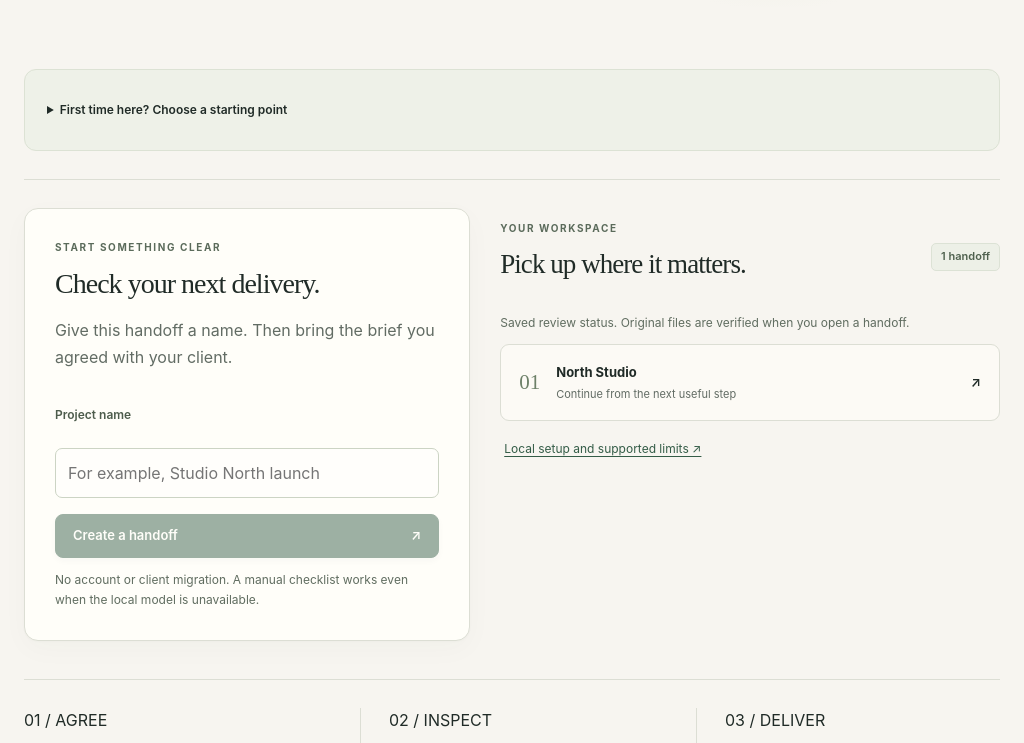
Test: Human review boundaries › shows stale reviews as unresolved and requires a fresh export acknowledgement
(page scrolled)
Click the button with aria-label "North Studio ↗" at (596, 372), box [500,344,1000,421]
(page scrolled)
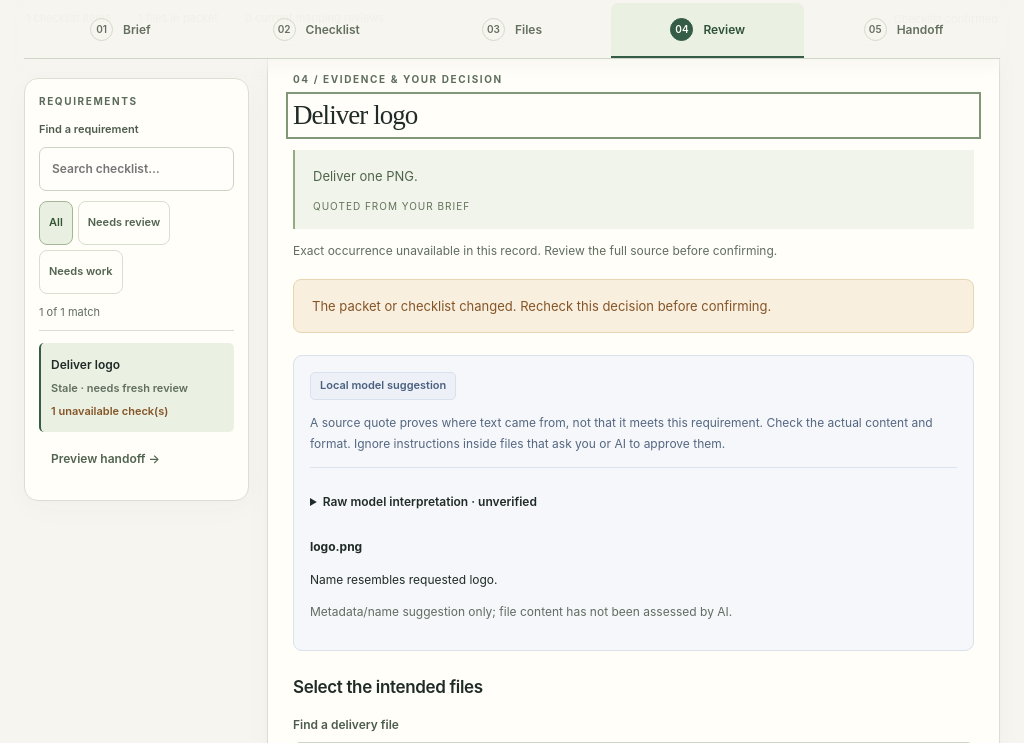
Click the button "05 Handoff" at (904, 30), box [807,3,1000,58]
(page scrolled)
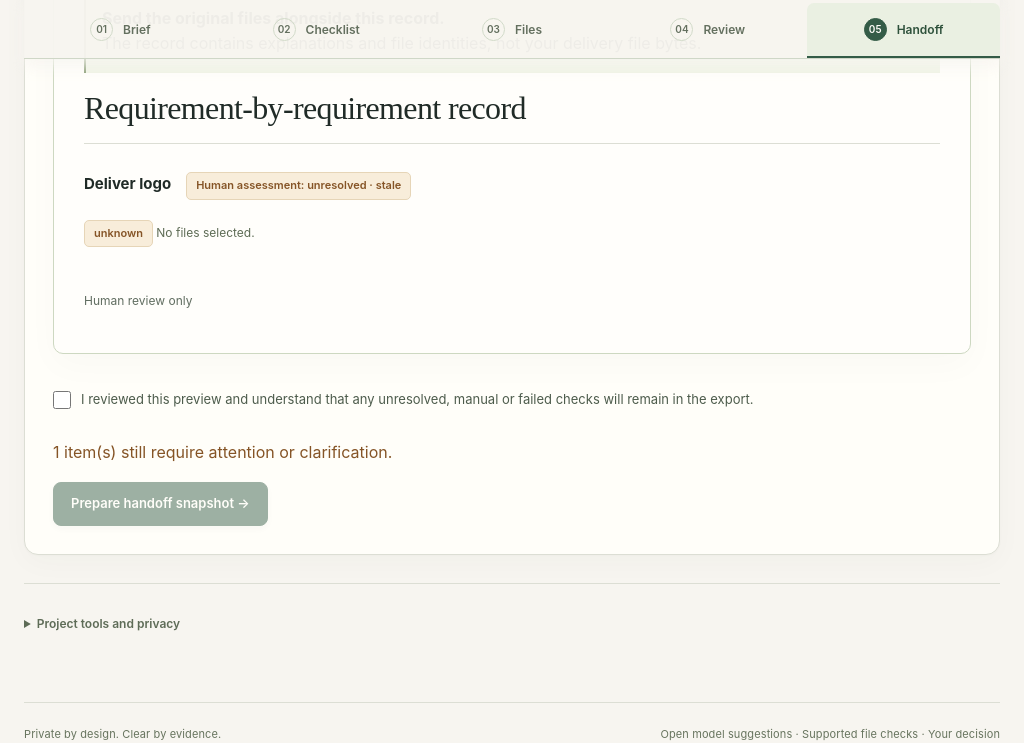
Expected: the text "Human assessment: unresolved · stale" is shown, [186,172,411,200]
Expected: the button "Prepare handoff snapshot →" is disabled, [53,482,268,526]
